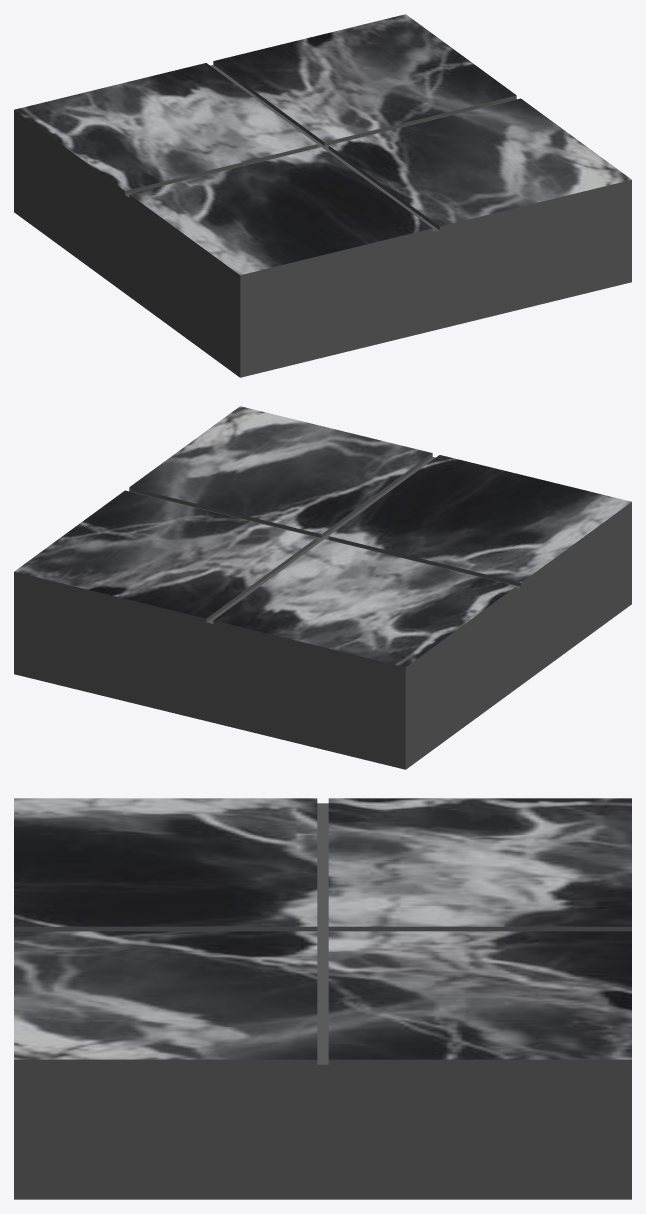
Rendered from WorldTile_Airport.fbx.
3 views of the same model, one above another, from view 1: azimuth 30°, elevation 25°; view 2: azimuth 150°, elevation 25°; view 3: azimuth 270°, elevation 25° (orthographic). The views are drawn at different scales.
Visible parts, largest first — view 1: Cube; view 2: Cube; view 3: Cube.
Boxes of the visible parts, x1,y1,x2,y2 form: Cube: [14, 14, 631, 377]; Cube: [14, 406, 631, 769]; Cube: [14, 798, 631, 1199].
Bounding box in the file's own units: 800 × 200 × 800.
